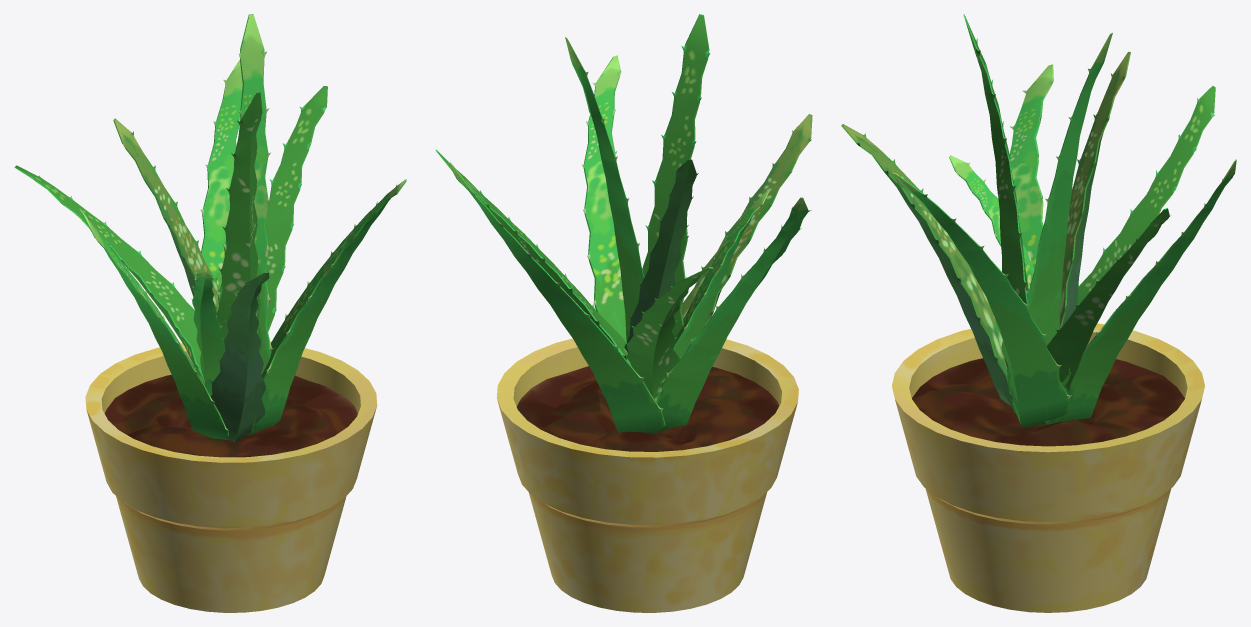
File: aloevera_good_end.glb
The picture shows the model from 3 angles, left to right: view 1: azimuth 30°, elevation 25°; view 2: azimuth 150°, elevation 25°; view 3: azimuth 270°, elevation 25°; orthographic projection. The views are drawn at different scales.
Visible parts, largest first — view 1: Pot, Plant; view 2: Pot, Plant; view 3: Pot, Plant.
Part boxes in pixels (left/top/right/bottom): Pot: left=85, top=341, right=377, bottom=612; Plant: left=14, top=14, right=406, bottom=442; Pot: left=496, top=338, right=798, bottom=612; Plant: left=435, top=14, right=812, bottom=433; Pot: left=892, top=323, right=1204, bottom=612; Plant: left=841, top=14, right=1236, bottom=426.
Bounding box in the file's own units: 2.43 × 4.06 × 2.59.
Materials: 4 (4 with a texture image).
